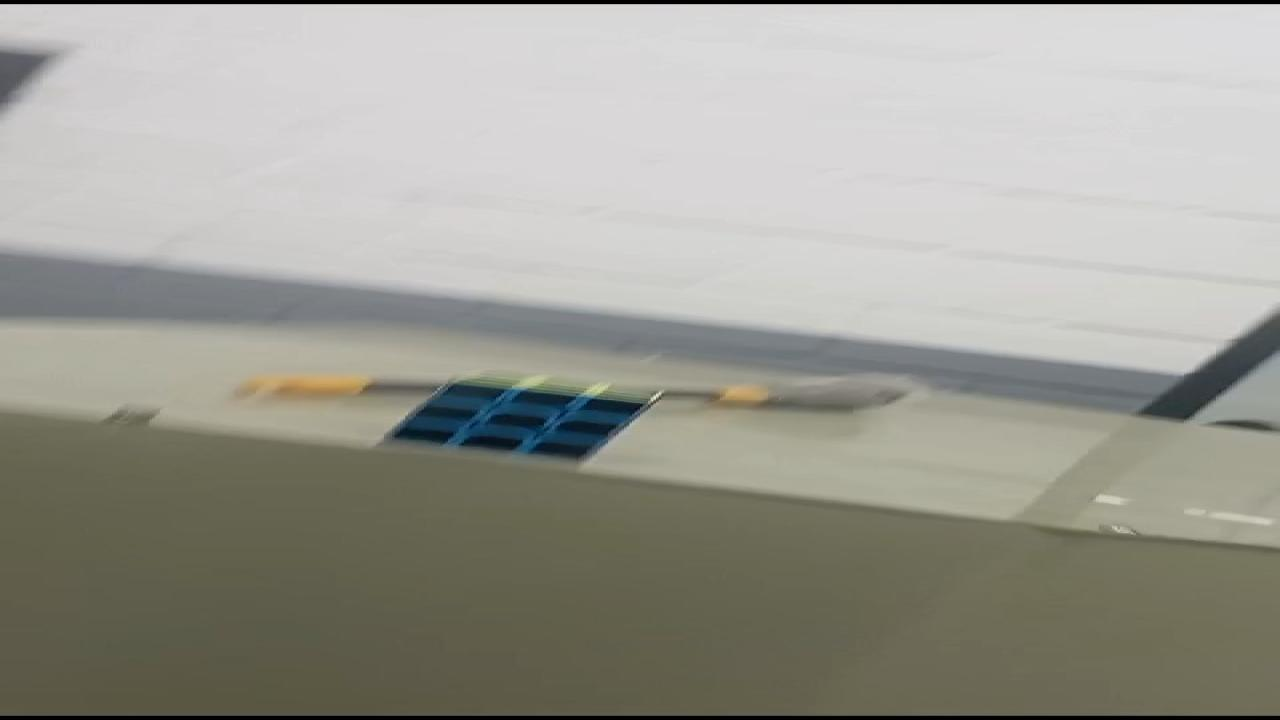Cube: (368, 369, 666, 466)
